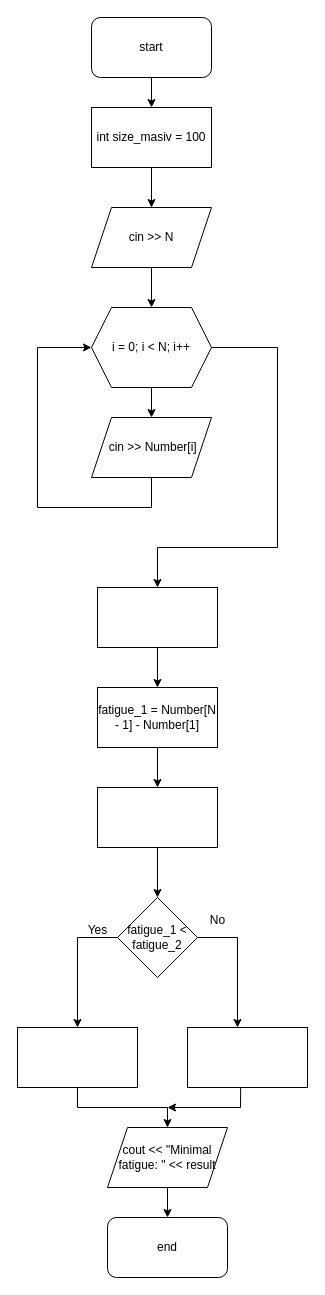
Some shapes in this 325 by 1295 pixel diagram are drawn without their labels. The box of each missing label's shape, as (x1, y1, x2, y2) in pixels:
fatigue_2 = Number[N - 2] - Number[0]: (96, 786, 218, 848)
result = fatigue_1: (16, 1026, 138, 1088)
result = fatigue_2: (186, 1026, 308, 1088)
sort(Number, Number + N): (96, 586, 218, 648)
